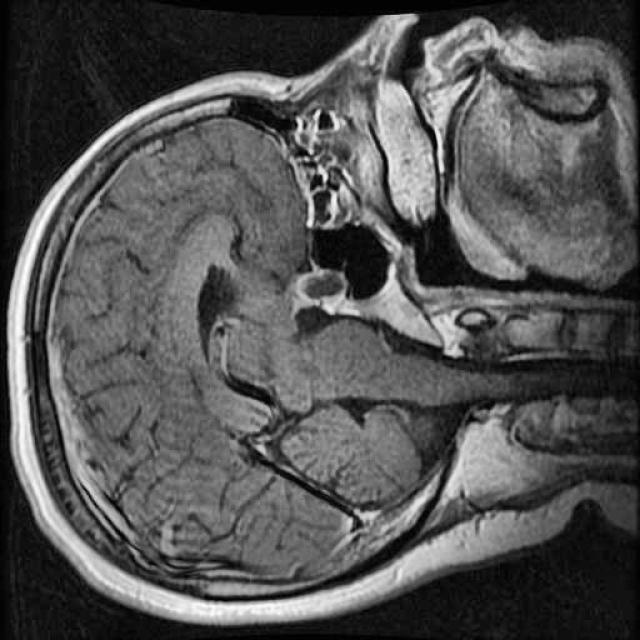Tumor: (282, 259, 360, 325)
